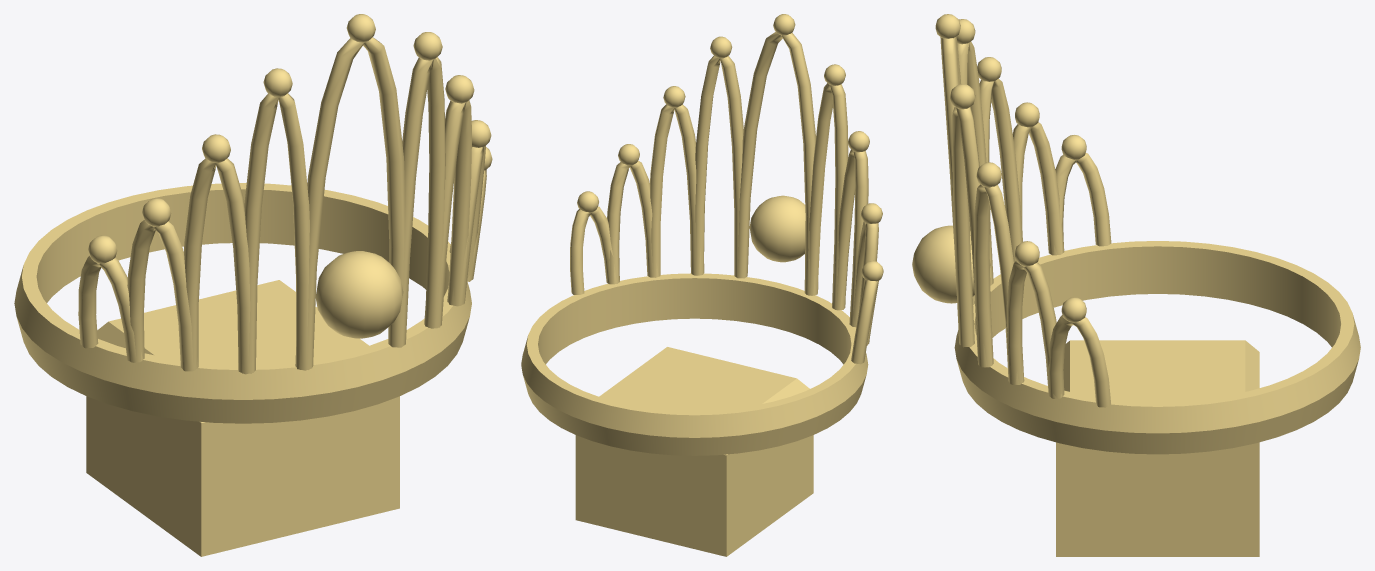
Rendered from diadem.glb.
3 views of the same model, side by side, from view 1: azimuth 30°, elevation 25°; view 2: azimuth 150°, elevation 25°; view 3: azimuth 270°, elevation 25° (orthographic). The views are drawn at different scales.
Parts seen in each view (by area): view 1: diadem; view 2: diadem; view 3: diadem.
Boxes of the visible parts, <box> form: diadem: <box>14,14,492,556</box>; diadem: <box>521,14,883,556</box>; diadem: <box>912,14,1360,556</box>.
Bounding box in the file's own units: 0.627 × 0.84 × 0.685.
